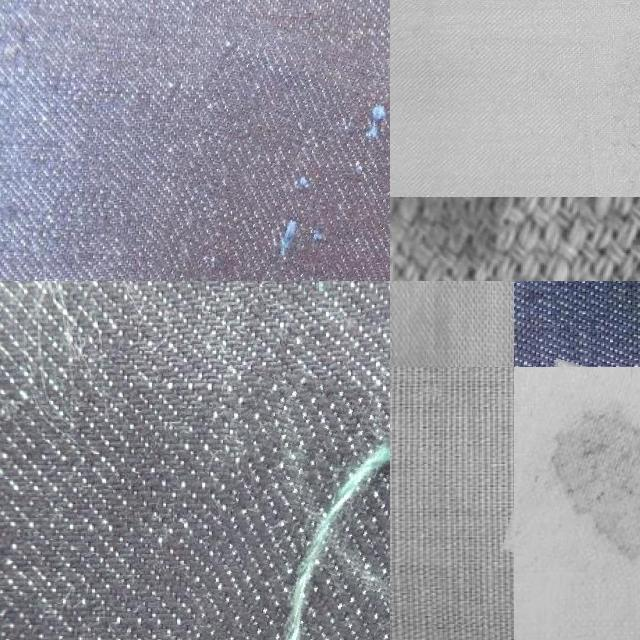Thread_other: (513, 368, 640, 588), (616, 0, 640, 110)
stains: (134, 34, 390, 281), (176, 379, 390, 640)
